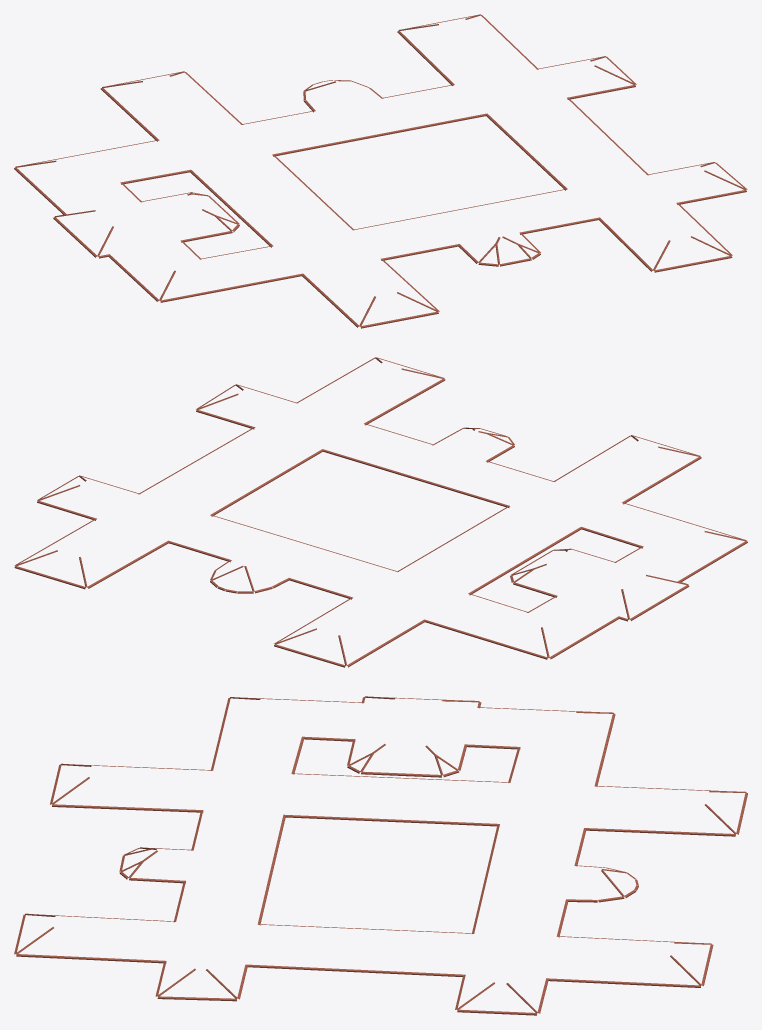
The picture shows the model from 3 angles, top to bottom: view 1: azimuth 30°, elevation 25°; view 2: azimuth 150°, elevation 25°; view 3: azimuth 270°, elevation 25°; orthographic projection. The views are drawn at different scales.
Visible parts, largest first — view 1: detail; view 2: detail; view 3: detail.
Part boxes in pixels (x1,y1,x2,y2): detail: (14,14,747,328); detail: (14,357,747,667); detail: (14,696,747,1015).
Size of the model in its own units: 95.37 by 2.37 by 93.03.
